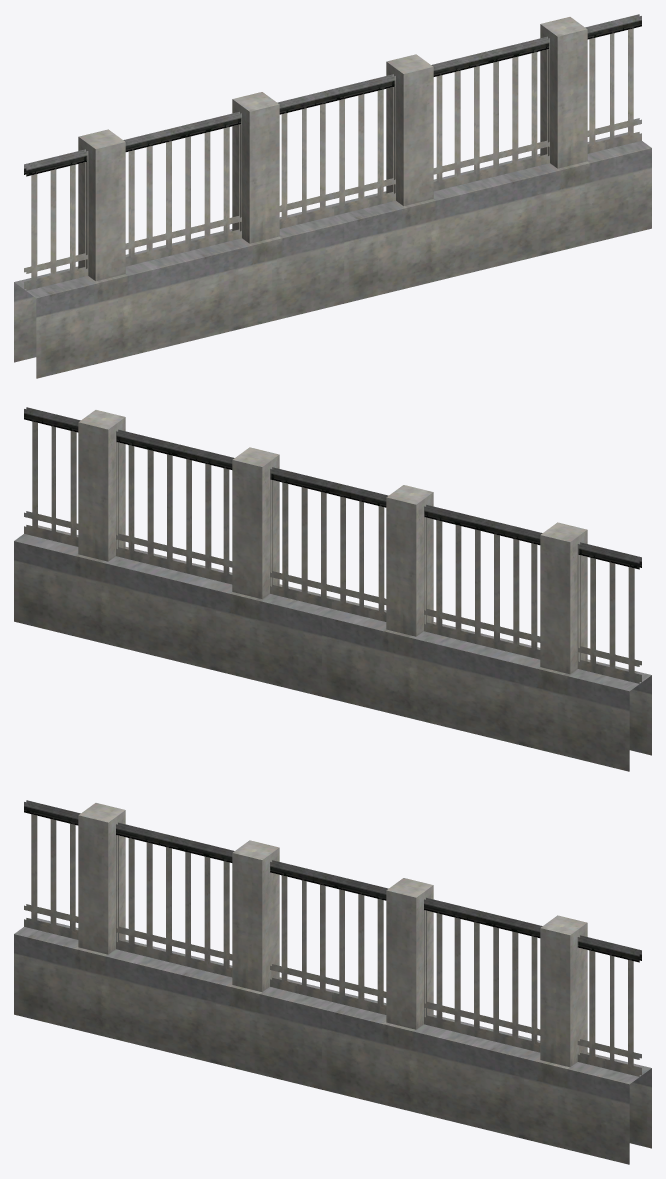
The model's file is thm_corl_imprv_wall_4x16_s02_l2.fbx.
3 views of the same model, one above another, from view 1: azimuth 30°, elevation 25°; view 2: azimuth 150°, elevation 25°; view 3: azimuth 330°, elevation 25° (orthographic).
Visible parts, largest first — view 1: mesh_node; view 2: mesh_node; view 3: mesh_node.
Part boxes in pixels (box(x1,y1,x2,y2)): mesh_node: box(14, 14, 651, 378); mesh_node: box(14, 407, 651, 771); mesh_node: box(14, 800, 651, 1164).
Bounding box in the file's own units: 16 × 5.28 × 1.
